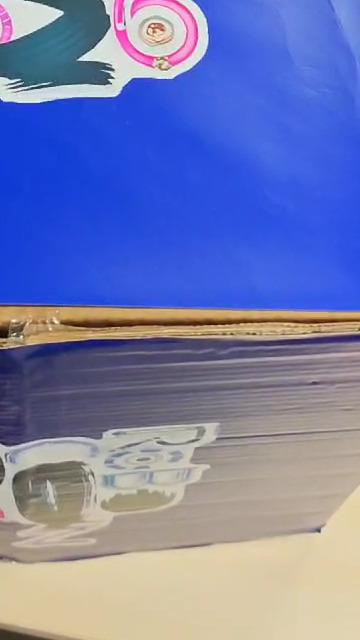B_R1: (0, 0, 353, 111)
